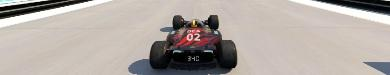Car: (148, 14, 237, 69)
curve: (0, 0, 389, 74)
